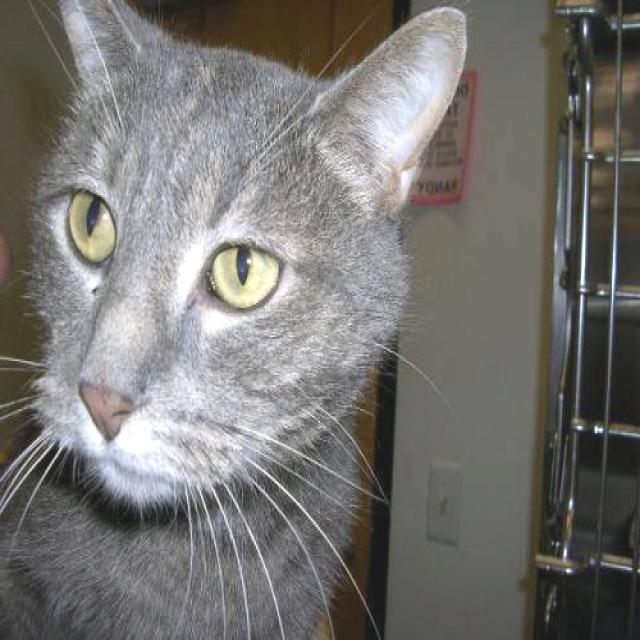Kucing: (0, 4, 539, 638)
